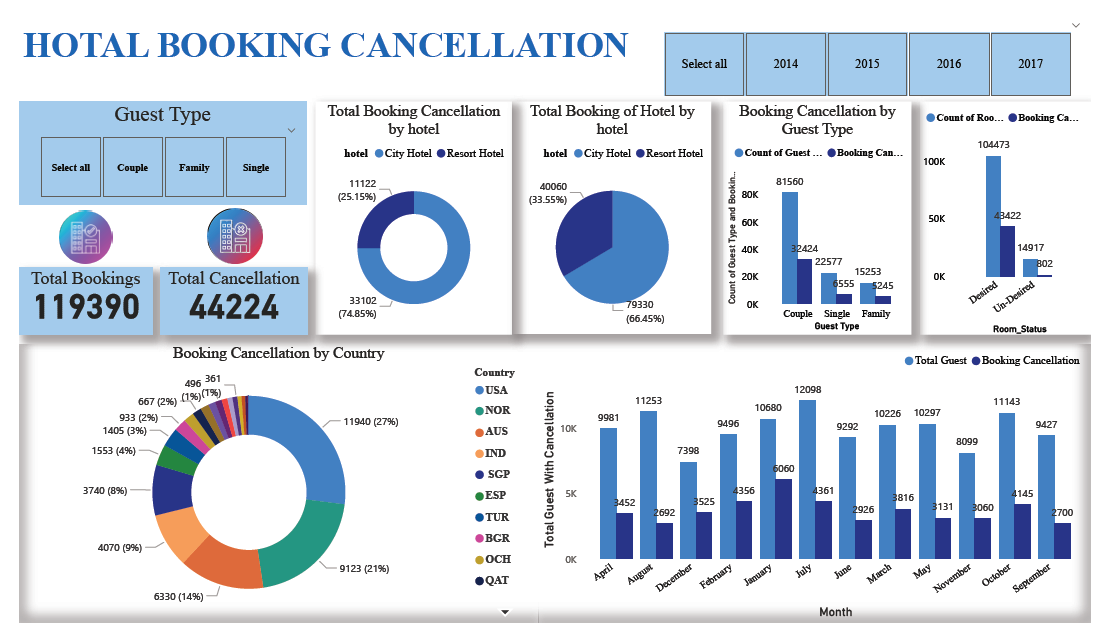

Layout of this report page (visuals, bound fields, positions):
{"tool":"powerbi","page":{"name":"Page 1","canvas":[1280,720],"ordinal":0},"visuals":[{"type":"clusteredColumnChart","title":"Booking Cancellation by Guest Type","fields":{"Y":["CountNonNull(hotel_booking.Guest Type)","Sum(hotel_booking.is_canceled)"],"Category":["hotel_booking.Guest Type"]},"box":[841.4,97.1,224.3,278.6],"z":0},{"type":"pieChart","fields":{"Category":["hotel_booking.hotel"],"Y":["CountNonNull(hotel_booking.hotel)"]},"box":[590,96.7,236.7,278.3],"z":1000},{"type":"donutChart","fields":{"Category":["hotel_booking.hotel"],"Y":["Sum(hotel_booking.is_canceled)"]},"box":[354.3,97.1,234.3,278.6],"z":2000},{"type":"clusteredColumnChart","fields":{"Category":["hotel_booking.Month Name"],"Y":["CountNonNull(hotel_booking.Guest Type)","Sum(hotel_booking.is_canceled)"]},"box":[620,386.7,660,333.3],"z":3000},{"type":"clusteredColumnChart","fields":{"Category":["hotel_booking.Room_Status"],"Y":["CountNonNull(hotel_booking.Room_Status)","Sum(hotel_booking.is_canceled)"]},"box":[1075.7,97.1,204.3,278.6],"z":4000},{"type":"card","title":"Total Bookings","fields":{"Values":["CountNonNull(hotel_booking.hotel)"]},"box":[0,295.7,158.6,80],"z":5000},{"type":"card","title":"Total Cancellation","fields":{"Values":["Sum(hotel_booking.is_canceled)"]},"box":[168.6,295.7,175.7,80],"z":6000},{"type":"image","box":[42.9,222.9,72.9,72.9],"z":7000},{"type":"textbox","box":[0,0,745.7,68.6],"z":8000},{"type":"slicer","fields":{"Values":["hotel_booking.Year "]},"box":[745,0,535,96.7],"z":9000},{"type":"donutChart","fields":{"Category":["hotel_booking.Country"],"Y":["Sum(hotel_booking.is_canceled)"]},"box":[0,386.7,620,333.3],"z":10000},{"type":"image","box":[218.6,220,77.1,75.7],"z":11000},{"type":"slicer","title":"Guest Type","fields":{"Values":["hotel_booking.Guest Type"]},"box":[0,97.1,342.9,122.9],"z":12000}]}

Visuals, with their boxes on the page's 1280x720 design canvas (x1, y1, x2, y2). These are canvas units, not pixel positions in the 1105x642 screenshot, which may show the page scaled, cropped or inside an application window:
"Booking Cancellation by Guest Type" clusteredColumnChart: {"x1": 841, "y1": 97, "x2": 1066, "y2": 376}
pieChart - hotel_booking.hotel x CountNonNull(hotel_booking.hotel): {"x1": 590, "y1": 97, "x2": 827, "y2": 375}
donutChart - hotel_booking.hotel x Sum(hotel_booking.is_canceled): {"x1": 354, "y1": 97, "x2": 589, "y2": 376}
clusteredColumnChart - hotel_booking.Month Name x CountNonNull(hotel_booking.Guest Type): {"x1": 620, "y1": 387, "x2": 1280, "y2": 720}
clusteredColumnChart - hotel_booking.Room_Status x CountNonNull(hotel_booking.Room_Status): {"x1": 1076, "y1": 97, "x2": 1280, "y2": 376}
"Total Bookings" card: {"x1": 0, "y1": 296, "x2": 159, "y2": 376}
"Total Cancellation" card: {"x1": 169, "y1": 296, "x2": 344, "y2": 376}
image: {"x1": 43, "y1": 223, "x2": 116, "y2": 296}
textbox: {"x1": 0, "y1": 0, "x2": 746, "y2": 69}
slicer - hotel_booking.Year : {"x1": 745, "y1": 0, "x2": 1280, "y2": 97}
donutChart - hotel_booking.Country x Sum(hotel_booking.is_canceled): {"x1": 0, "y1": 387, "x2": 620, "y2": 720}
image: {"x1": 219, "y1": 220, "x2": 296, "y2": 296}
"Guest Type" slicer: {"x1": 0, "y1": 97, "x2": 343, "y2": 220}
